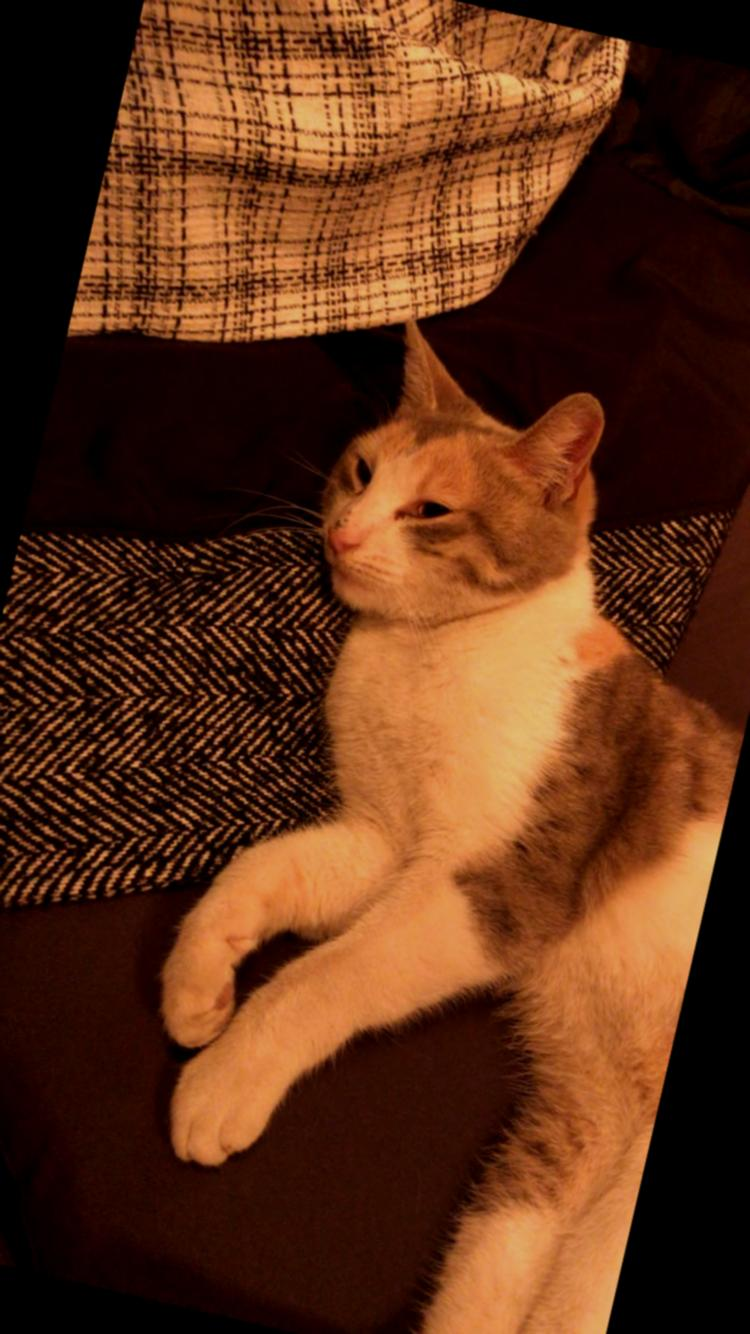macka: (91, 292, 750, 1334)
